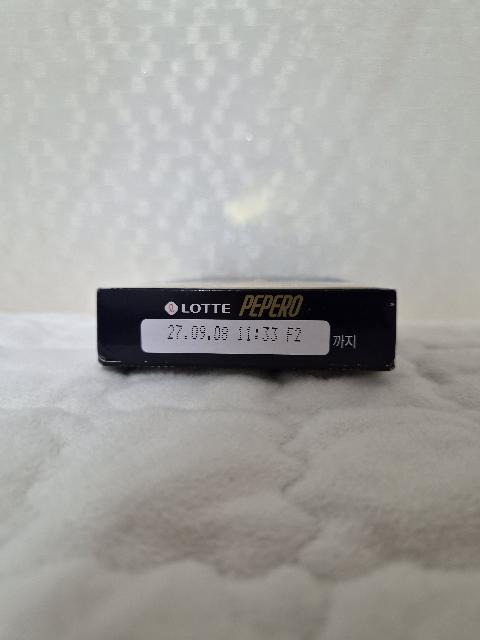pepero: (97, 277, 397, 371)
